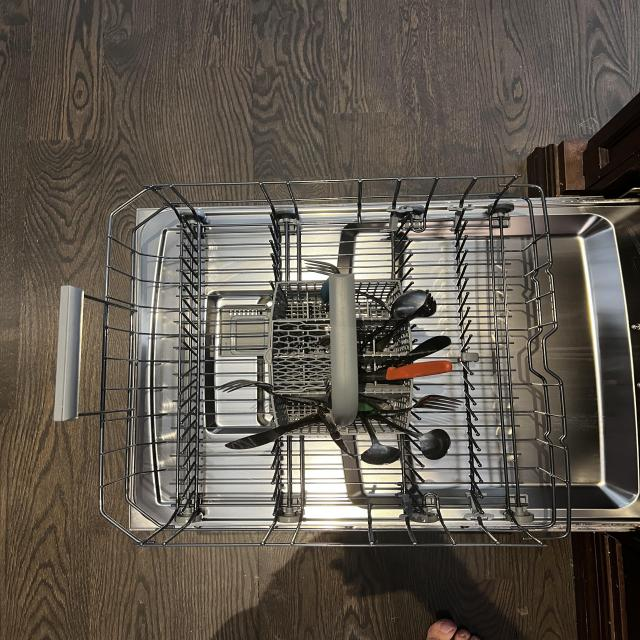Fork: (302, 258, 390, 312), (367, 288, 437, 352), (210, 378, 331, 413), (358, 394, 466, 413)
Knife: (225, 412, 322, 454), (360, 335, 452, 376), (359, 359, 455, 383), (316, 410, 356, 463)
Spoon: (358, 406, 452, 461), (357, 289, 427, 353), (357, 410, 403, 465)
